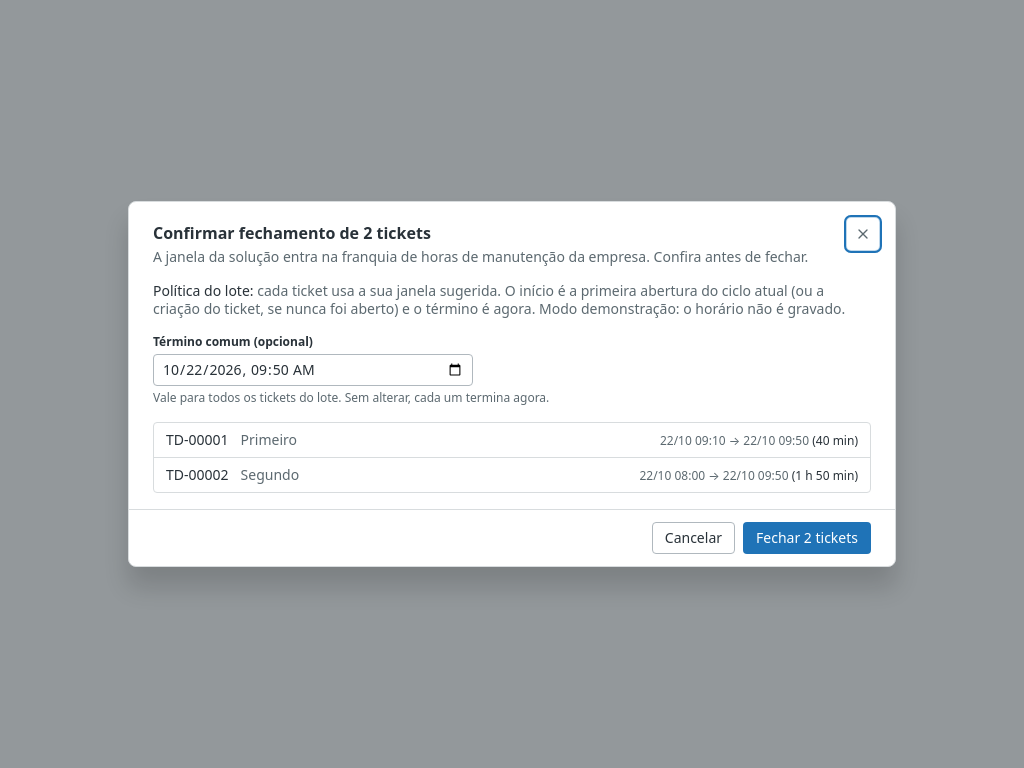
BulkCloseModal: término comum e falhas por ticket (backend real simulado) › erro de rede no lote inteiro: cada ticket mostra a mensagem e nada é dado como fechado
Click the button "Fechar 2 tickets".
click(807, 538)  # box x1=743 y1=522 x2=871 y2=554
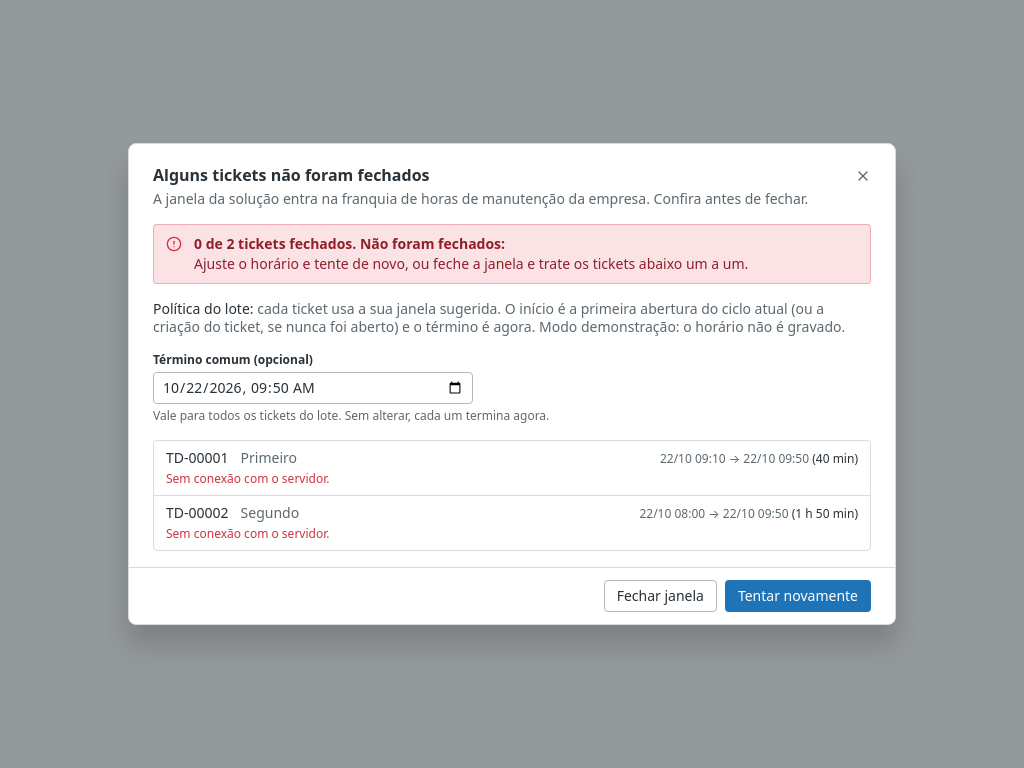
Now the text "Sem conexão com o servidor." is shown 2 times, box x1=166 y1=470 x2=329 y2=487; x1=166 y1=525 x2=329 y2=542
